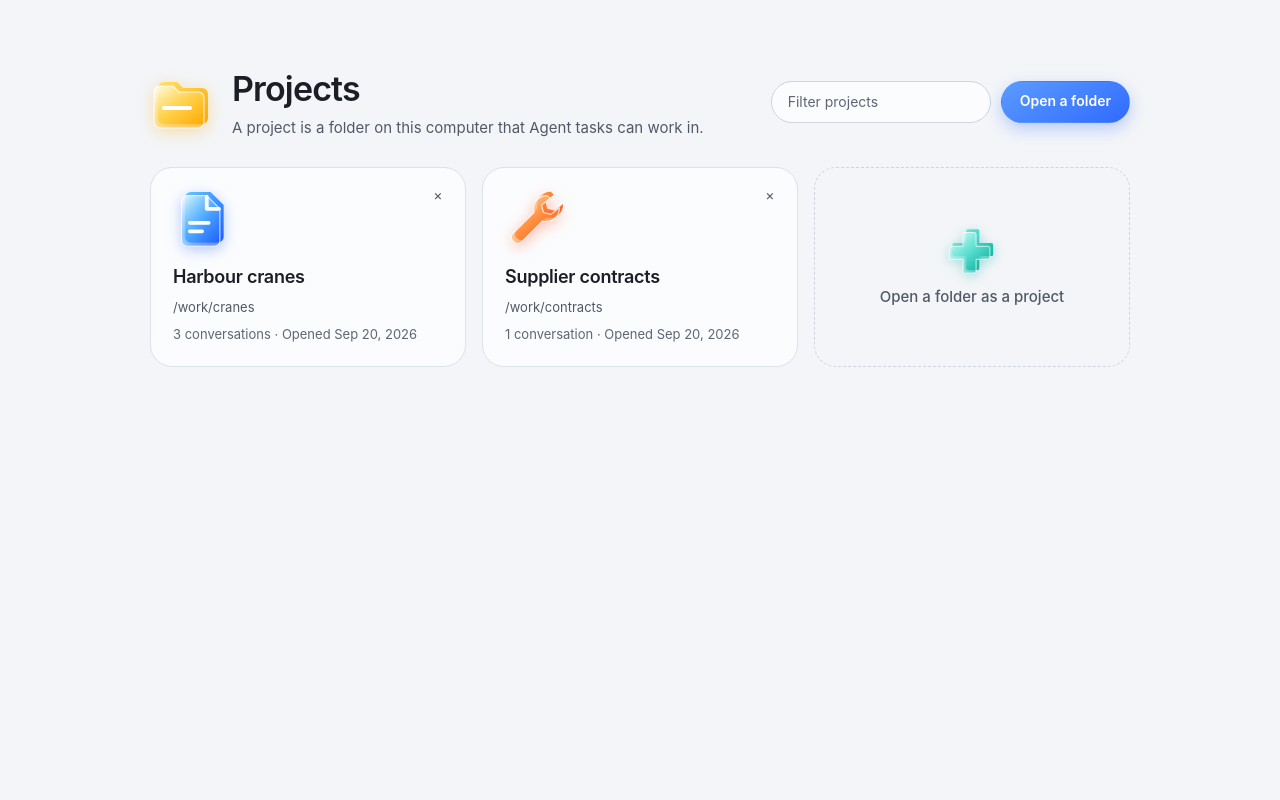
ProjectsView › says why a project could not be removed
This screenshot has width=1280, height=800.
Click the button named "Remove Supplier contracts from Tramontana": {"x": 770, "y": 195} [752,177,788,213]
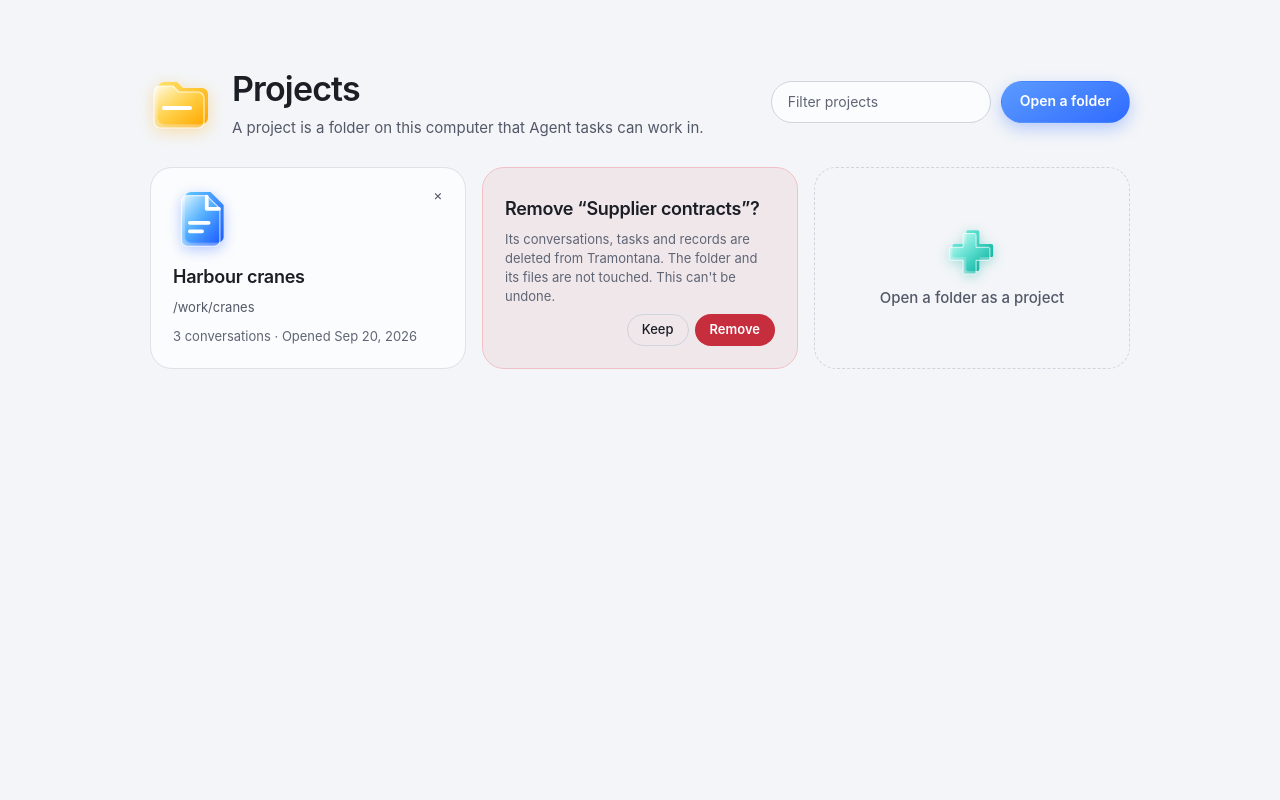
Click the button "Remove": {"x": 735, "y": 330} [694,314,775,346]
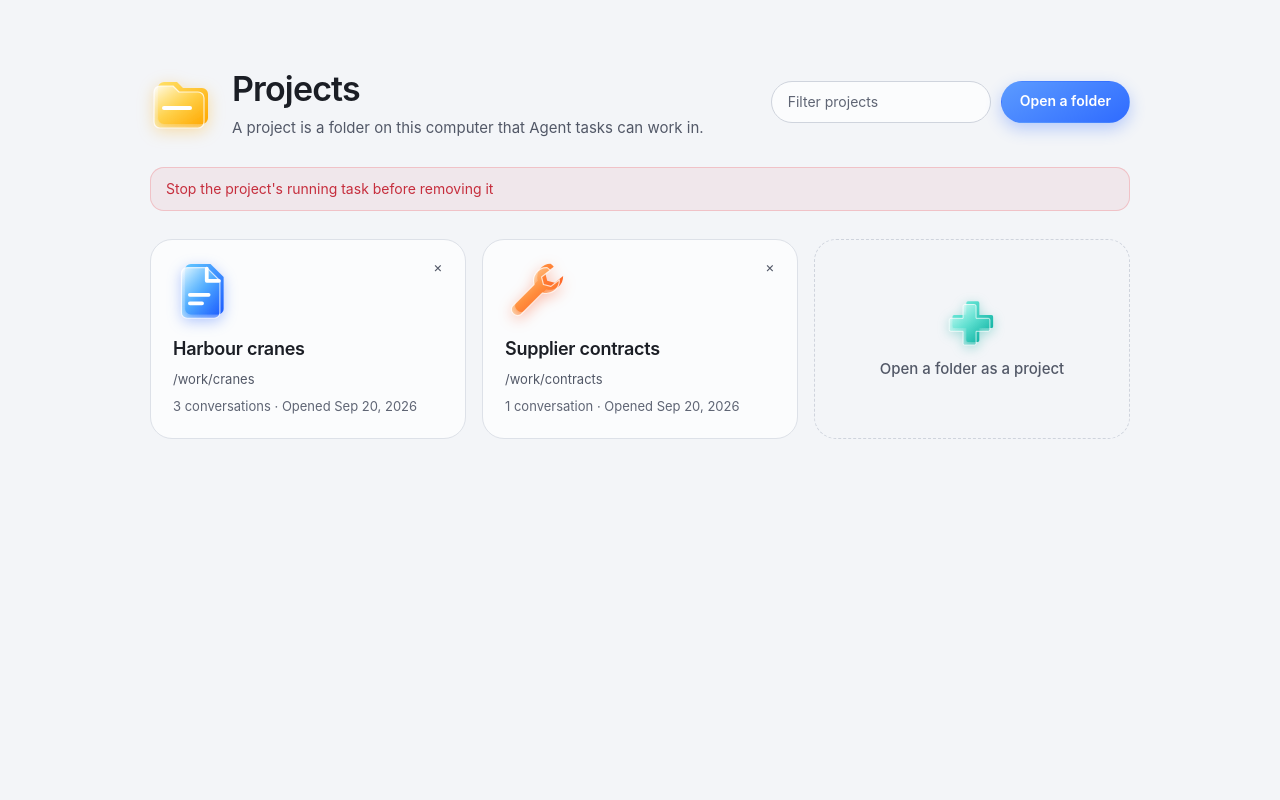
Expected: the message shows "Stop the project's running task", [166,180,493,197]
